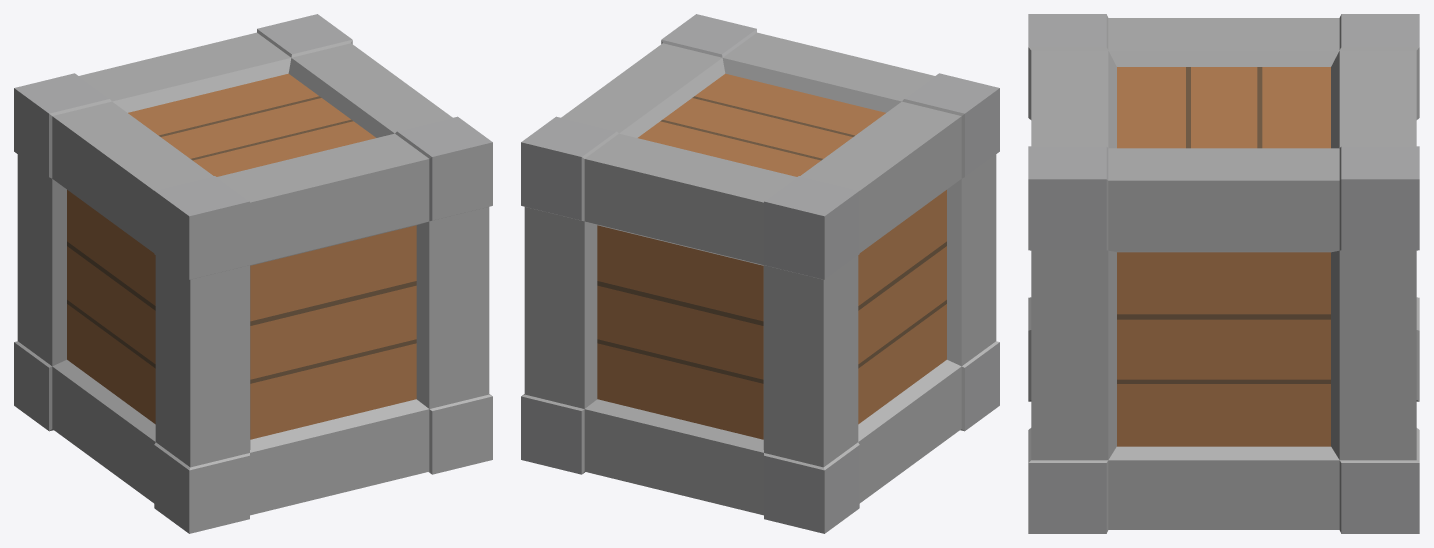
3 renders of one model, left to right at view 1: azimuth 30°, elevation 25°; view 2: azimuth 150°, elevation 25°; view 3: azimuth 270°, elevation 25°, orthographic. The views are drawn at different scales.
Visible parts, largest first — view 1: Cube; view 2: Cube; view 3: Cube.
Part boxes in pixels (bbox=[...]): Cube: bbox=[14, 14, 492, 533]; Cube: bbox=[521, 14, 999, 533]; Cube: bbox=[1028, 14, 1419, 533].
Size of the model in its own units: 200 by 200 by 200.
